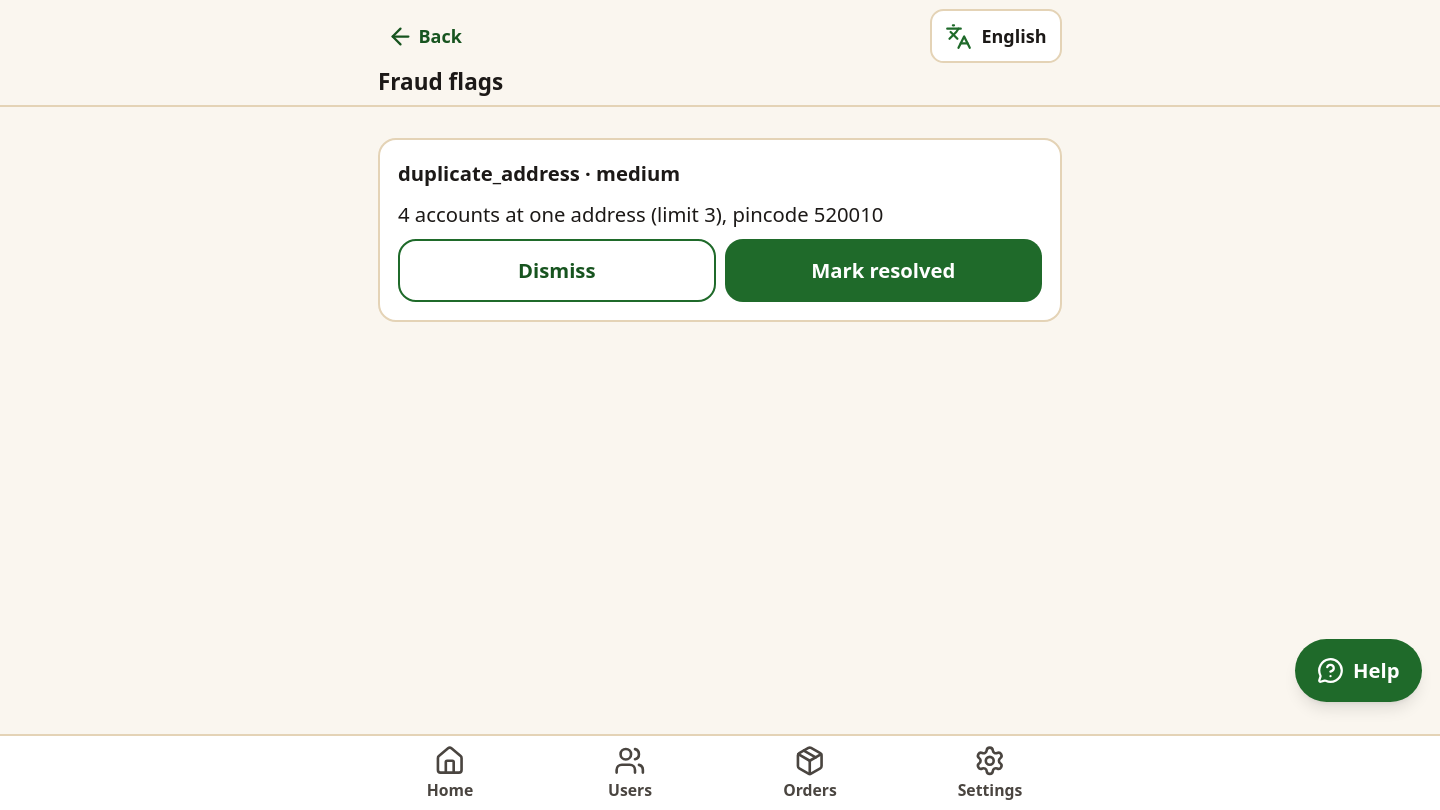
it: Admin panel › shows an error when a fraud flag was already handled
Expected: the text "4 accounts at one address (limit 3), pincode 520010" is shown, [398, 200, 883, 228]
Click the button "Dismiss" at (557, 271), box [398, 239, 716, 302]
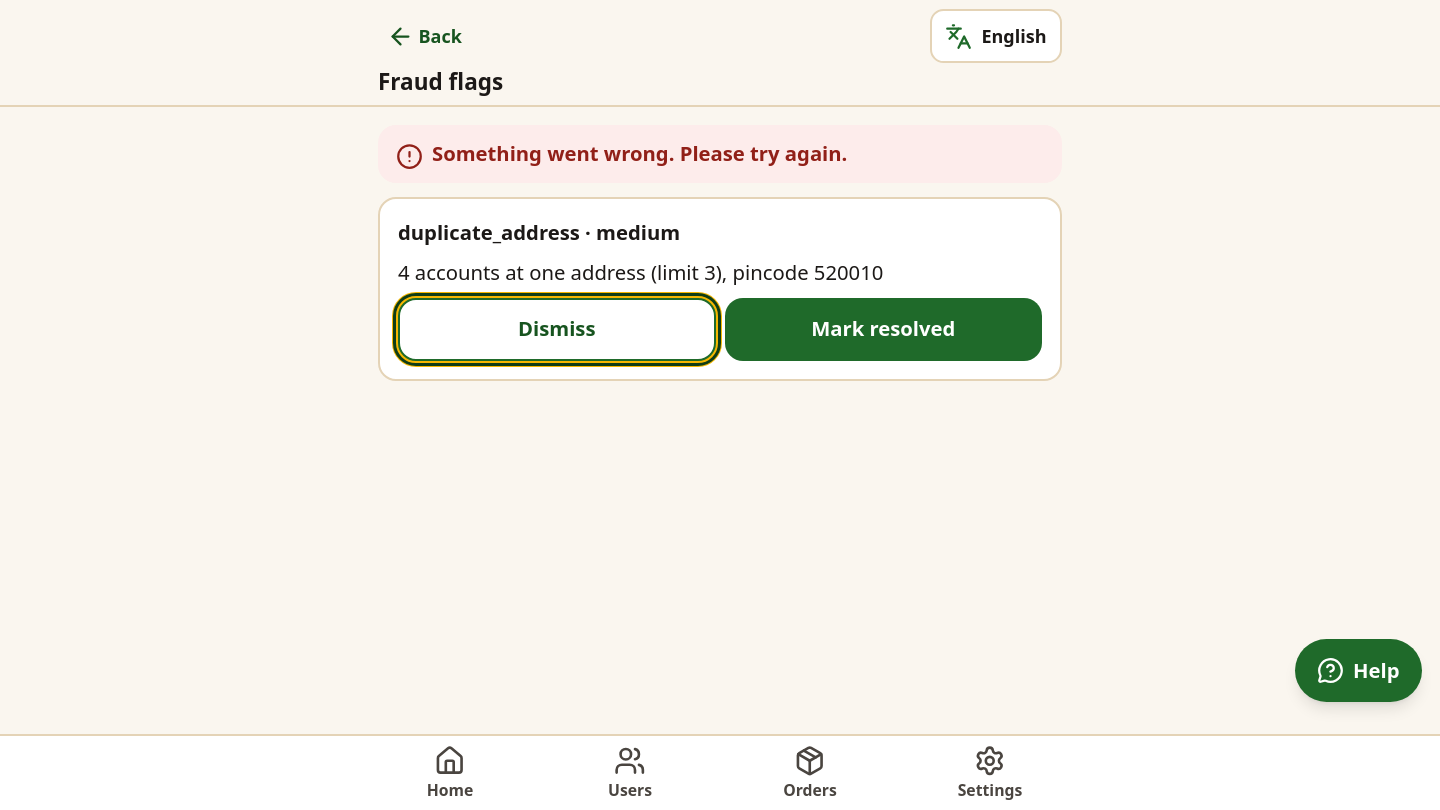
Now the message "Something went wrong. Please try again." is shown, box [378, 125, 1062, 183]
